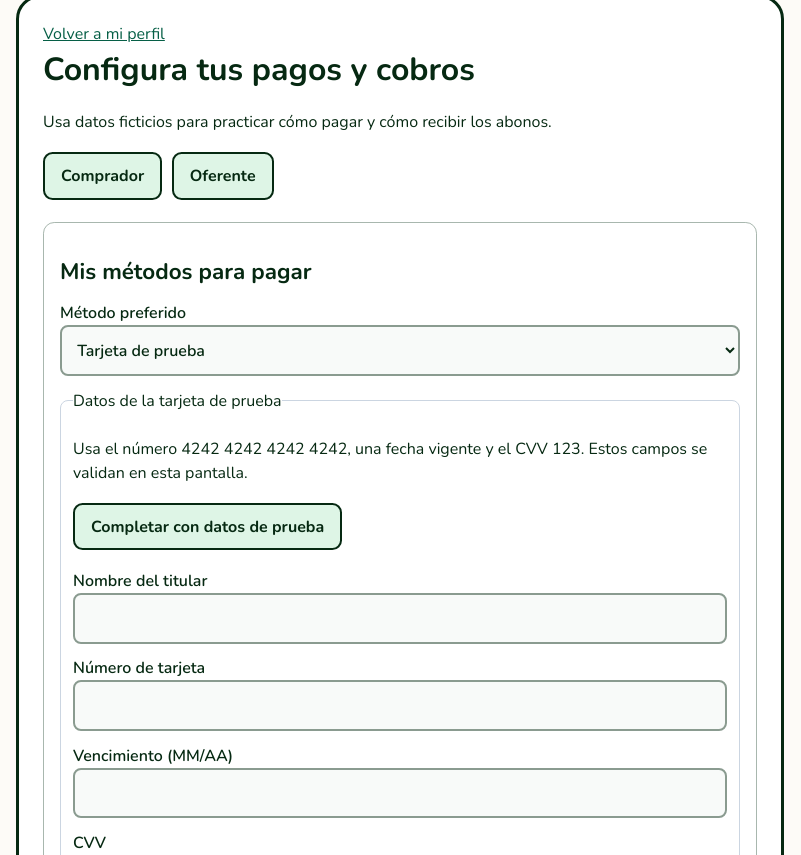
Test: guarda la referencia de prueba sin enviar campos de tarjeta
Step 1. Click the button "Completar con datos de prueba" → [208, 526], box [73, 503, 342, 550]
(page scrolled)
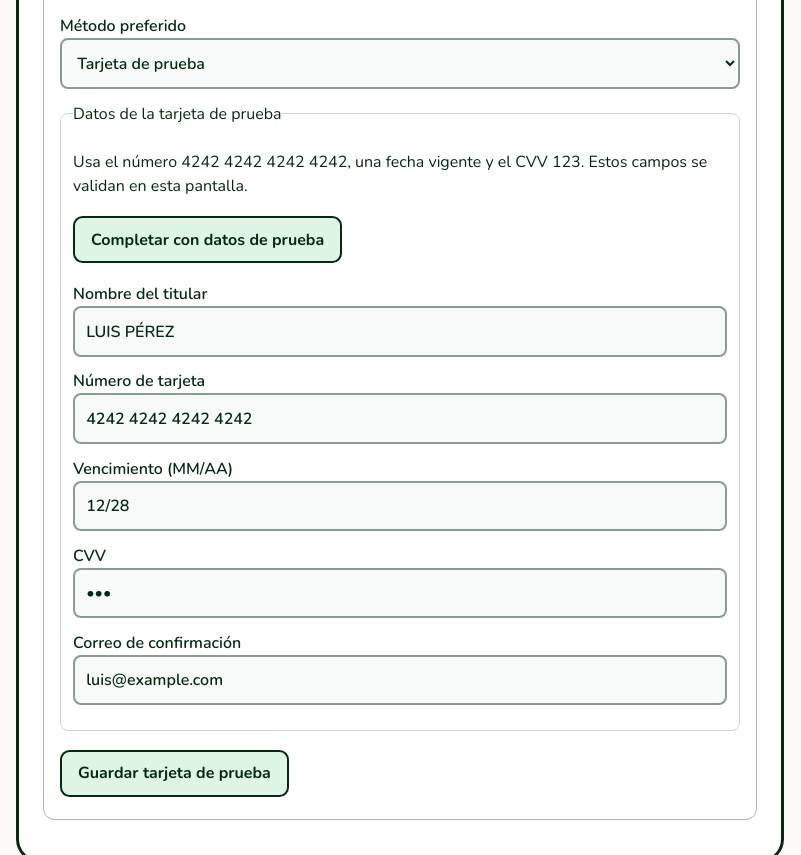
Expected: the button "Guardar tarjeta de prueba" is enabled
Step 2. Click the button "Guardar tarjeta de prueba" → [174, 773], box [60, 750, 289, 797]
(page scrolled)
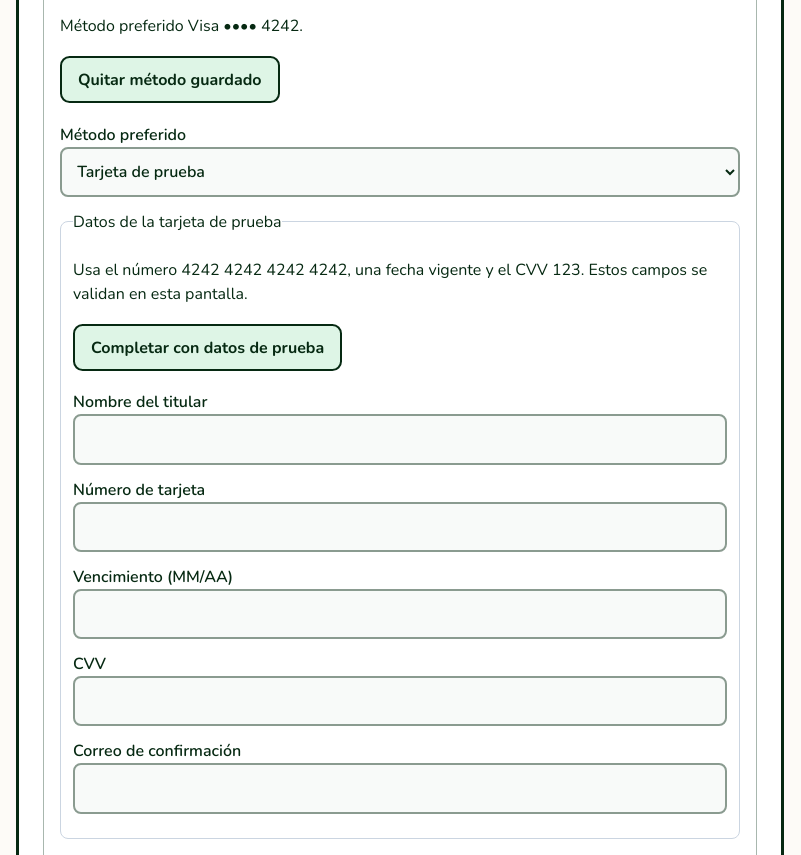
Expected: the text "Método preferido Visa •••• 4242." is shown, [60, 15, 303, 37]
